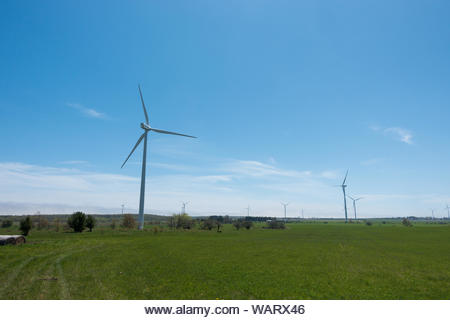working: (108, 81, 202, 184)
